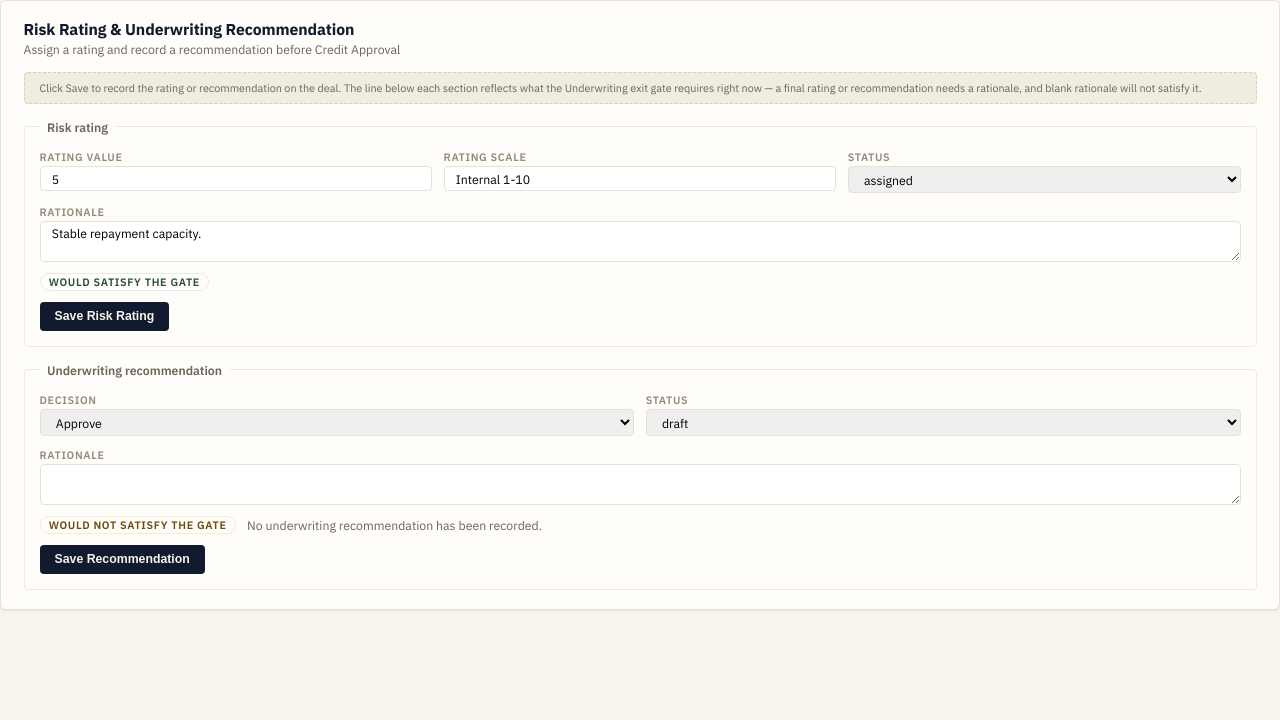
DealRiskRatingPanel › persistence (Factory Arc Phase 5) › saves the status selected by mouse/click path, not a stale prior status
Select "reviewed" in the 1st dropdown labelled "Status" at [1044, 180], box x1=848 y1=166 x2=1240 y2=193
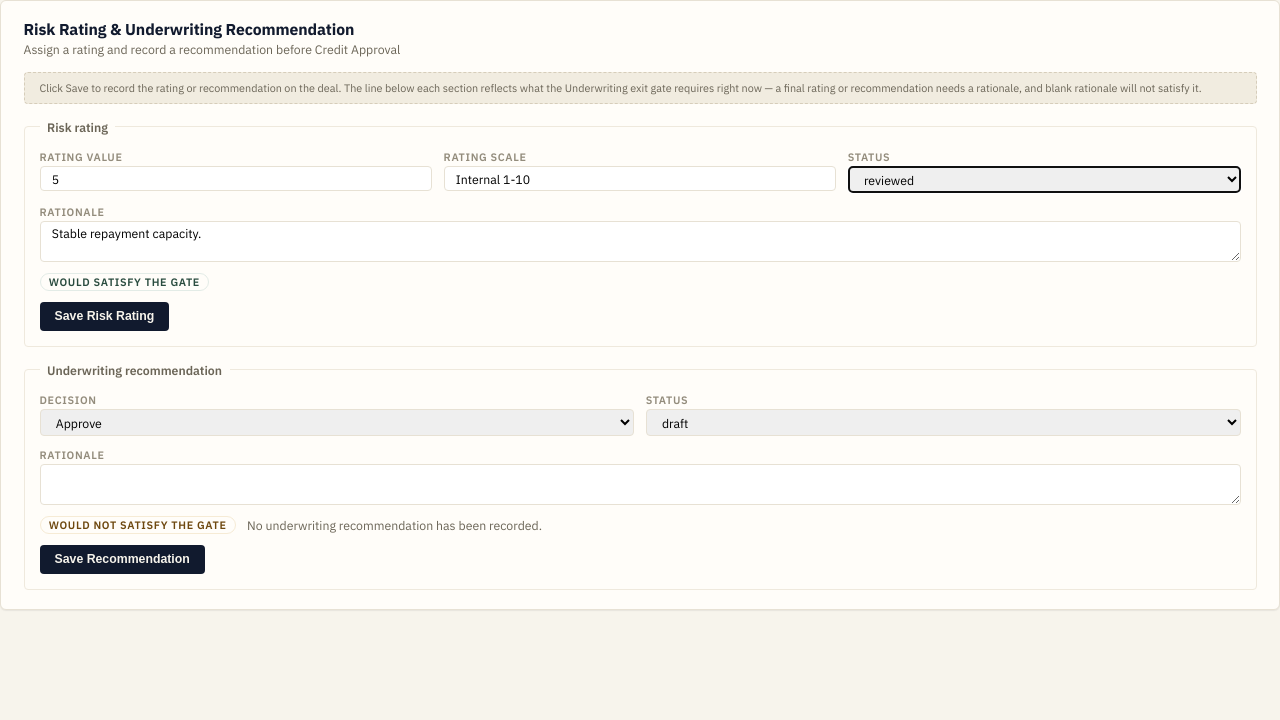
Click the button "Save Risk Rating".
click(104, 316)  # box x1=40 y1=302 x2=169 y2=331
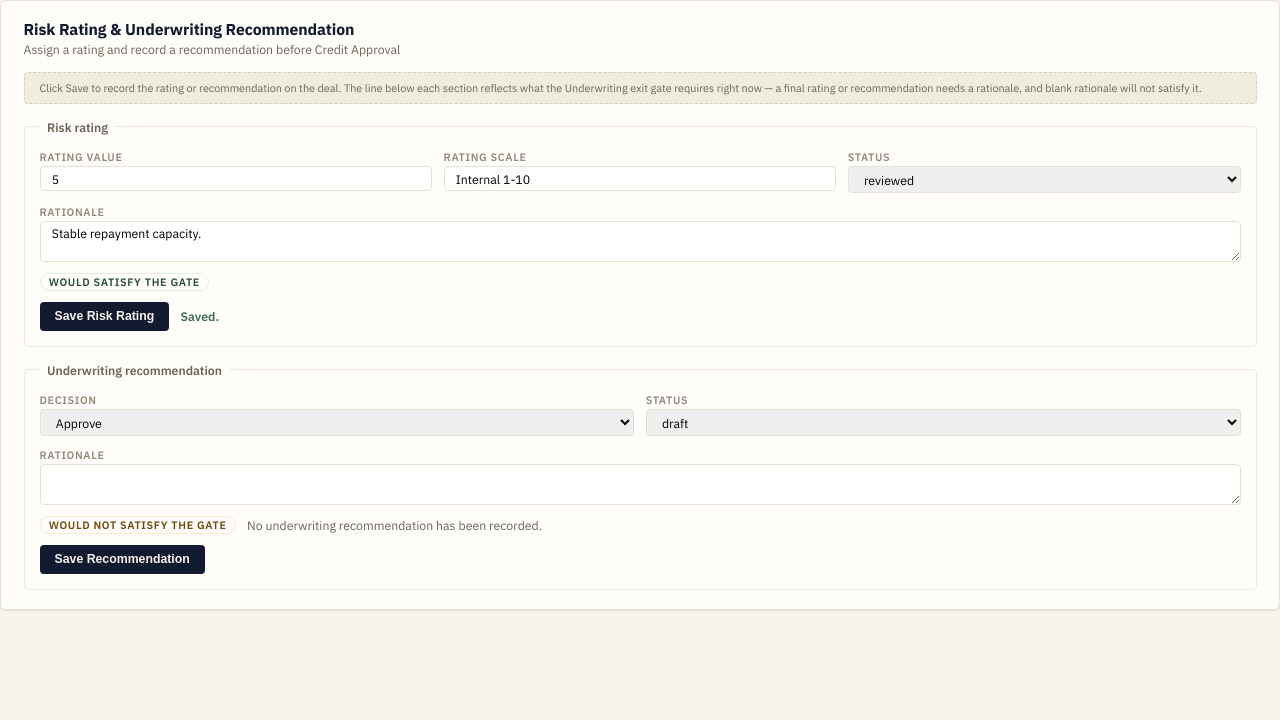
Result: the message "Saved." is shown at x1=180 y1=308 x2=219 y2=324
